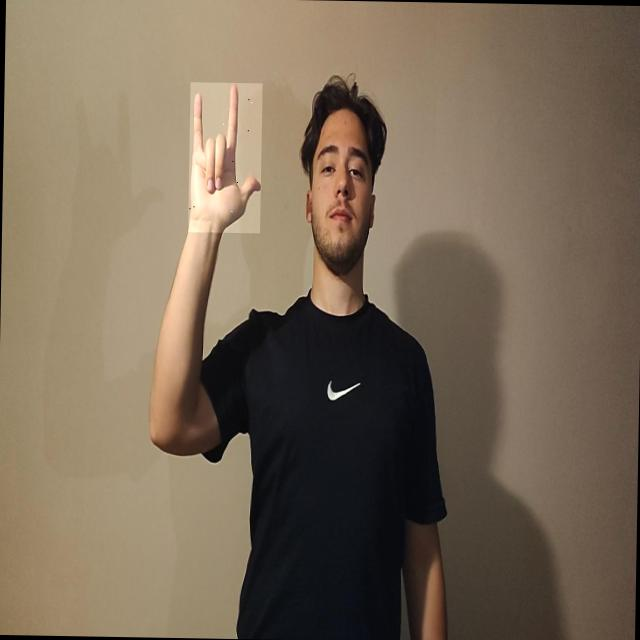iloveyou: (188, 82, 263, 233)
